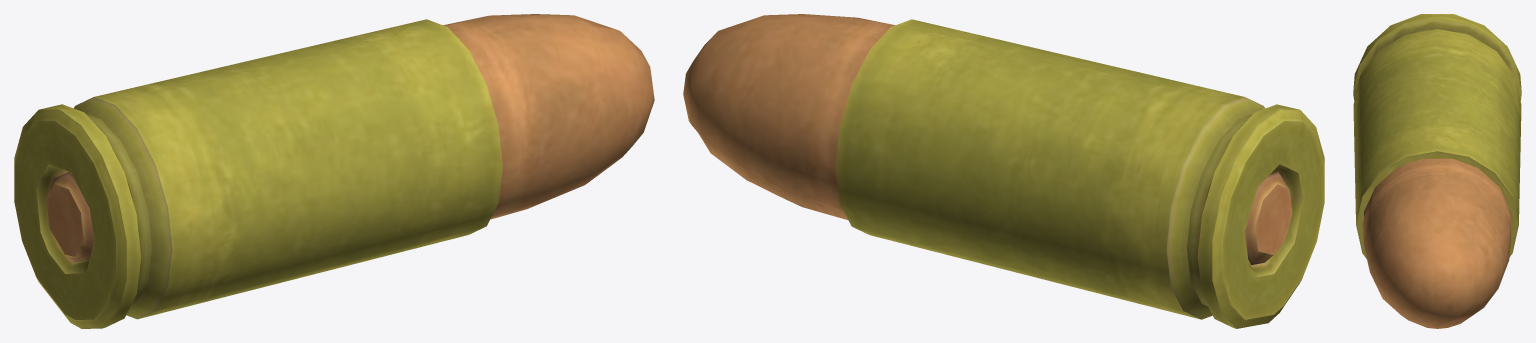
The model's file is bala_9mm.glb.
3 renders of one model, left to right at view 1: azimuth 30°, elevation 25°; view 2: azimuth 150°, elevation 25°; view 3: azimuth 270°, elevation 25°, orthographic. The views are drawn at different scales.
Parts seen in each view (by area): view 1: Bullet; view 2: Bullet; view 3: Bullet.
Part boxes in pixels (x1,y1,x2,y2): Bullet: (14, 14, 654, 328); Bullet: (683, 14, 1324, 328); Bullet: (1353, 14, 1521, 328).
Bounding box in the file's own units: 2.92 × 0.9941 × 0.9934.
Materials: 1 (1 with a texture image).
